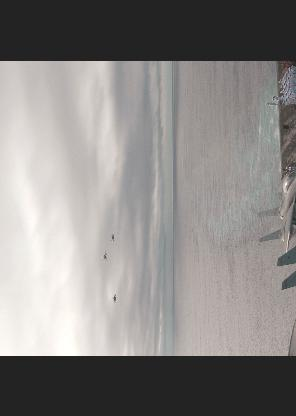EF2000: (254, 159, 293, 254), (274, 108, 293, 290)
F15: (109, 230, 115, 244), (101, 250, 107, 264), (111, 291, 117, 305)
